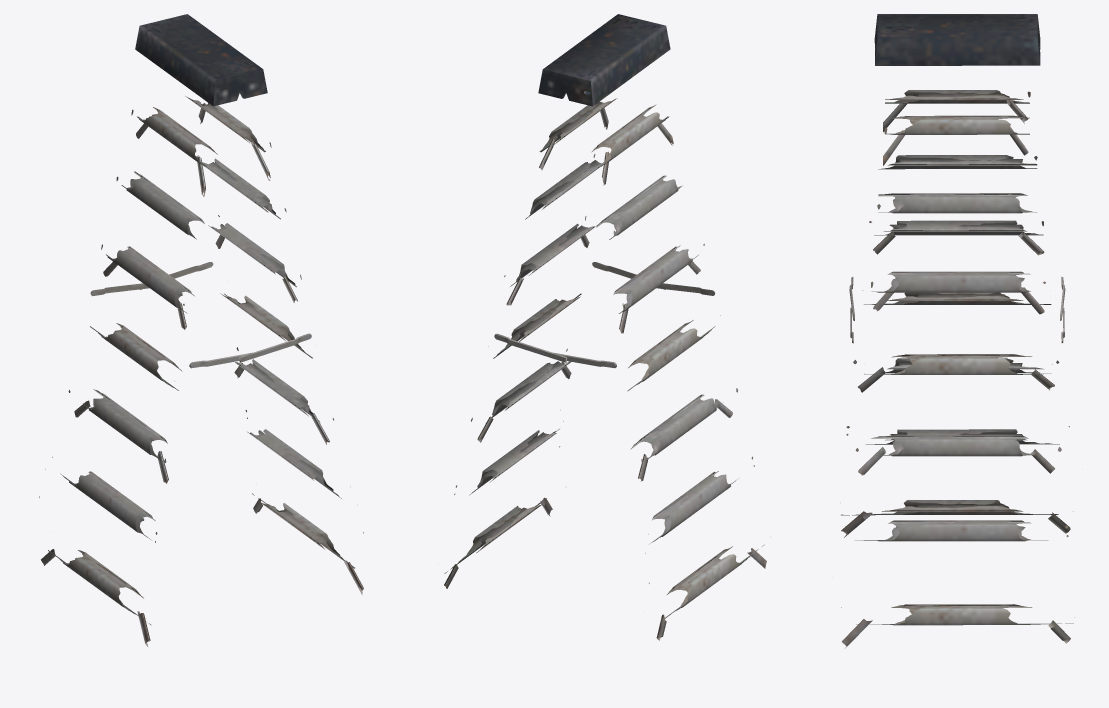
The model's file is 163_FoldingGladder.fbx.
3 views of the same model, side by side, from view 1: azimuth 30°, elevation 25°; view 2: azimuth 150°, elevation 25°; view 3: azimuth 270°, elevation 25° (orthographic). The views are drawn at different scales.
Visible parts, largest first — view 1: LOD_1_Group_0_Sub_1__sm30_163_Foldingladder03A_A_Mat; view 2: LOD_1_Group_0_Sub_1__sm30_163_Foldingladder03A_A_Mat; view 3: LOD_1_Group_0_Sub_1__sm30_163_Foldingladder03A_A_Mat.
Part boxes in pixels (left/top/right/bottom): LOD_1_Group_0_Sub_1__sm30_163_Foldingladder03A_A_Mat: left=39, top=14, right=363, bottom=646; LOD_1_Group_0_Sub_1__sm30_163_Foldingladder03A_A_Mat: left=444, top=14, right=766, bottom=640; LOD_1_Group_0_Sub_1__sm30_163_Foldingladder03A_A_Mat: left=841, top=14, right=1074, bottom=648.
Size of the model in its own units: 0.9293 by 2.06 by 0.848.
